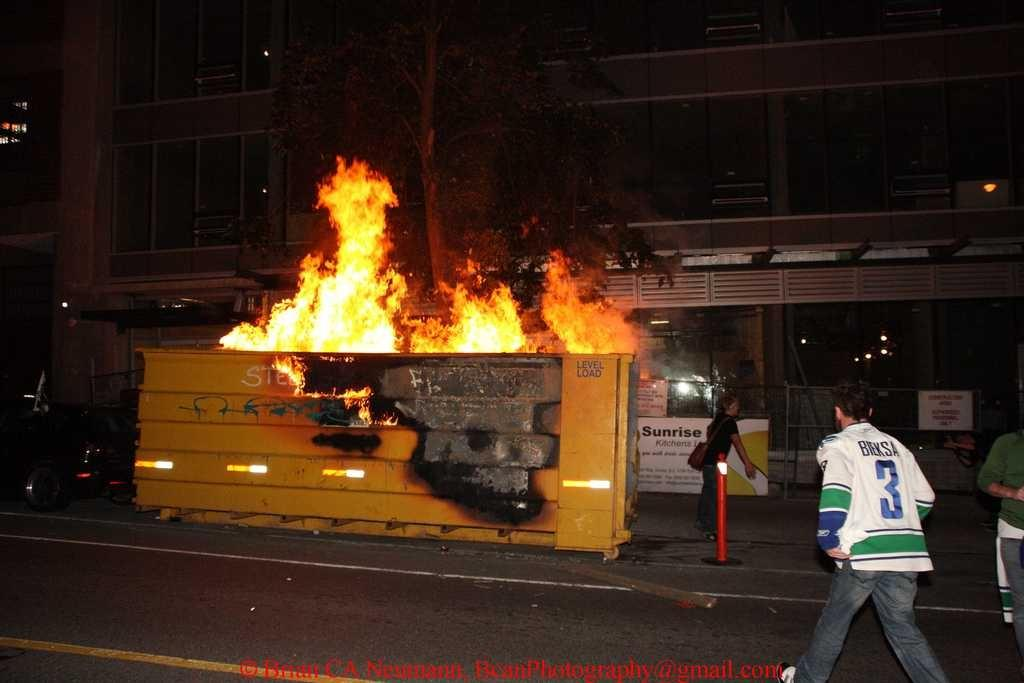fire: (298, 278, 392, 347), (337, 190, 385, 283), (562, 295, 613, 350), (455, 313, 523, 347)
